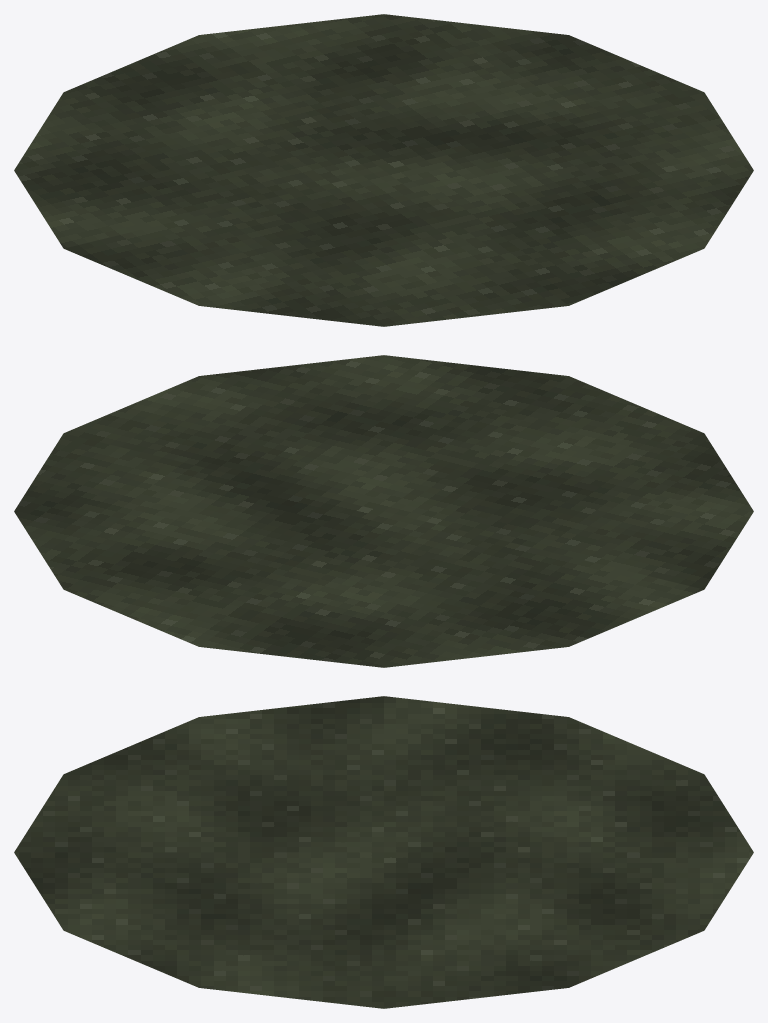
The model's file is level_woodland_floor.glb.
The picture shows the model from 3 angles, top to bottom: view 1: azimuth 30°, elevation 25°; view 2: azimuth 150°, elevation 25°; view 3: azimuth 270°, elevation 25°; orthographic projection.
Visible parts, largest first — view 1: level_woodland_floor; view 2: level_woodland_floor; view 3: level_woodland_floor.
Boxes of the visible parts, left/top/right/bottom form: level_woodland_floor: left=14, top=14, right=753, bottom=326; level_woodland_floor: left=14, top=355, right=753, bottom=667; level_woodland_floor: left=14, top=696, right=753, bottom=1008.
Bounding box in the file's own units: 1 × 0 × 1.
1 material, 1 textured.
